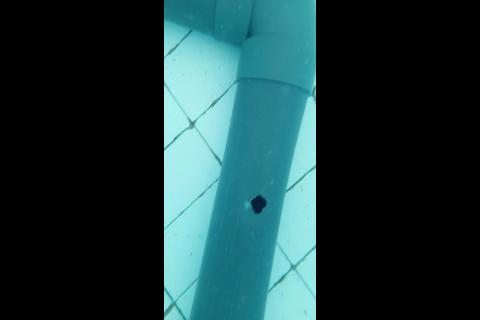kebocoran: (249, 192, 267, 215)
